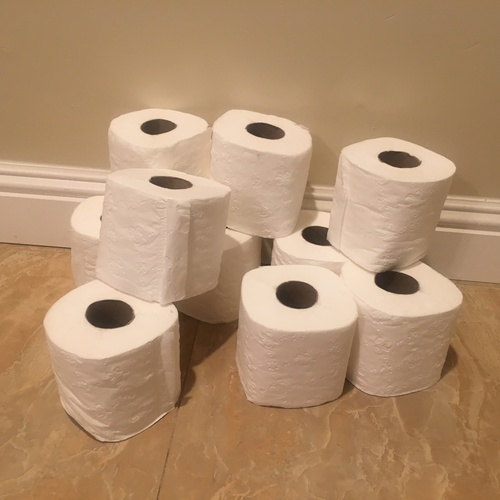roll: (42, 277, 183, 444), (94, 166, 233, 307), (235, 263, 360, 410), (323, 135, 454, 273), (340, 259, 465, 399), (209, 108, 313, 240), (166, 226, 264, 326), (106, 106, 213, 183), (268, 208, 346, 279), (69, 194, 109, 291)
